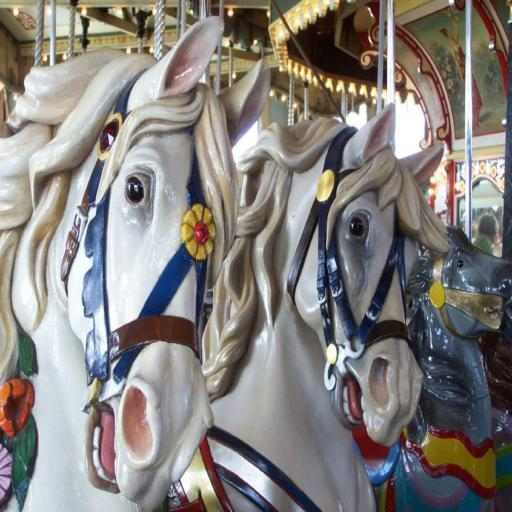horse: (0, 16, 272, 512), (162, 102, 451, 512), (348, 224, 512, 512)
